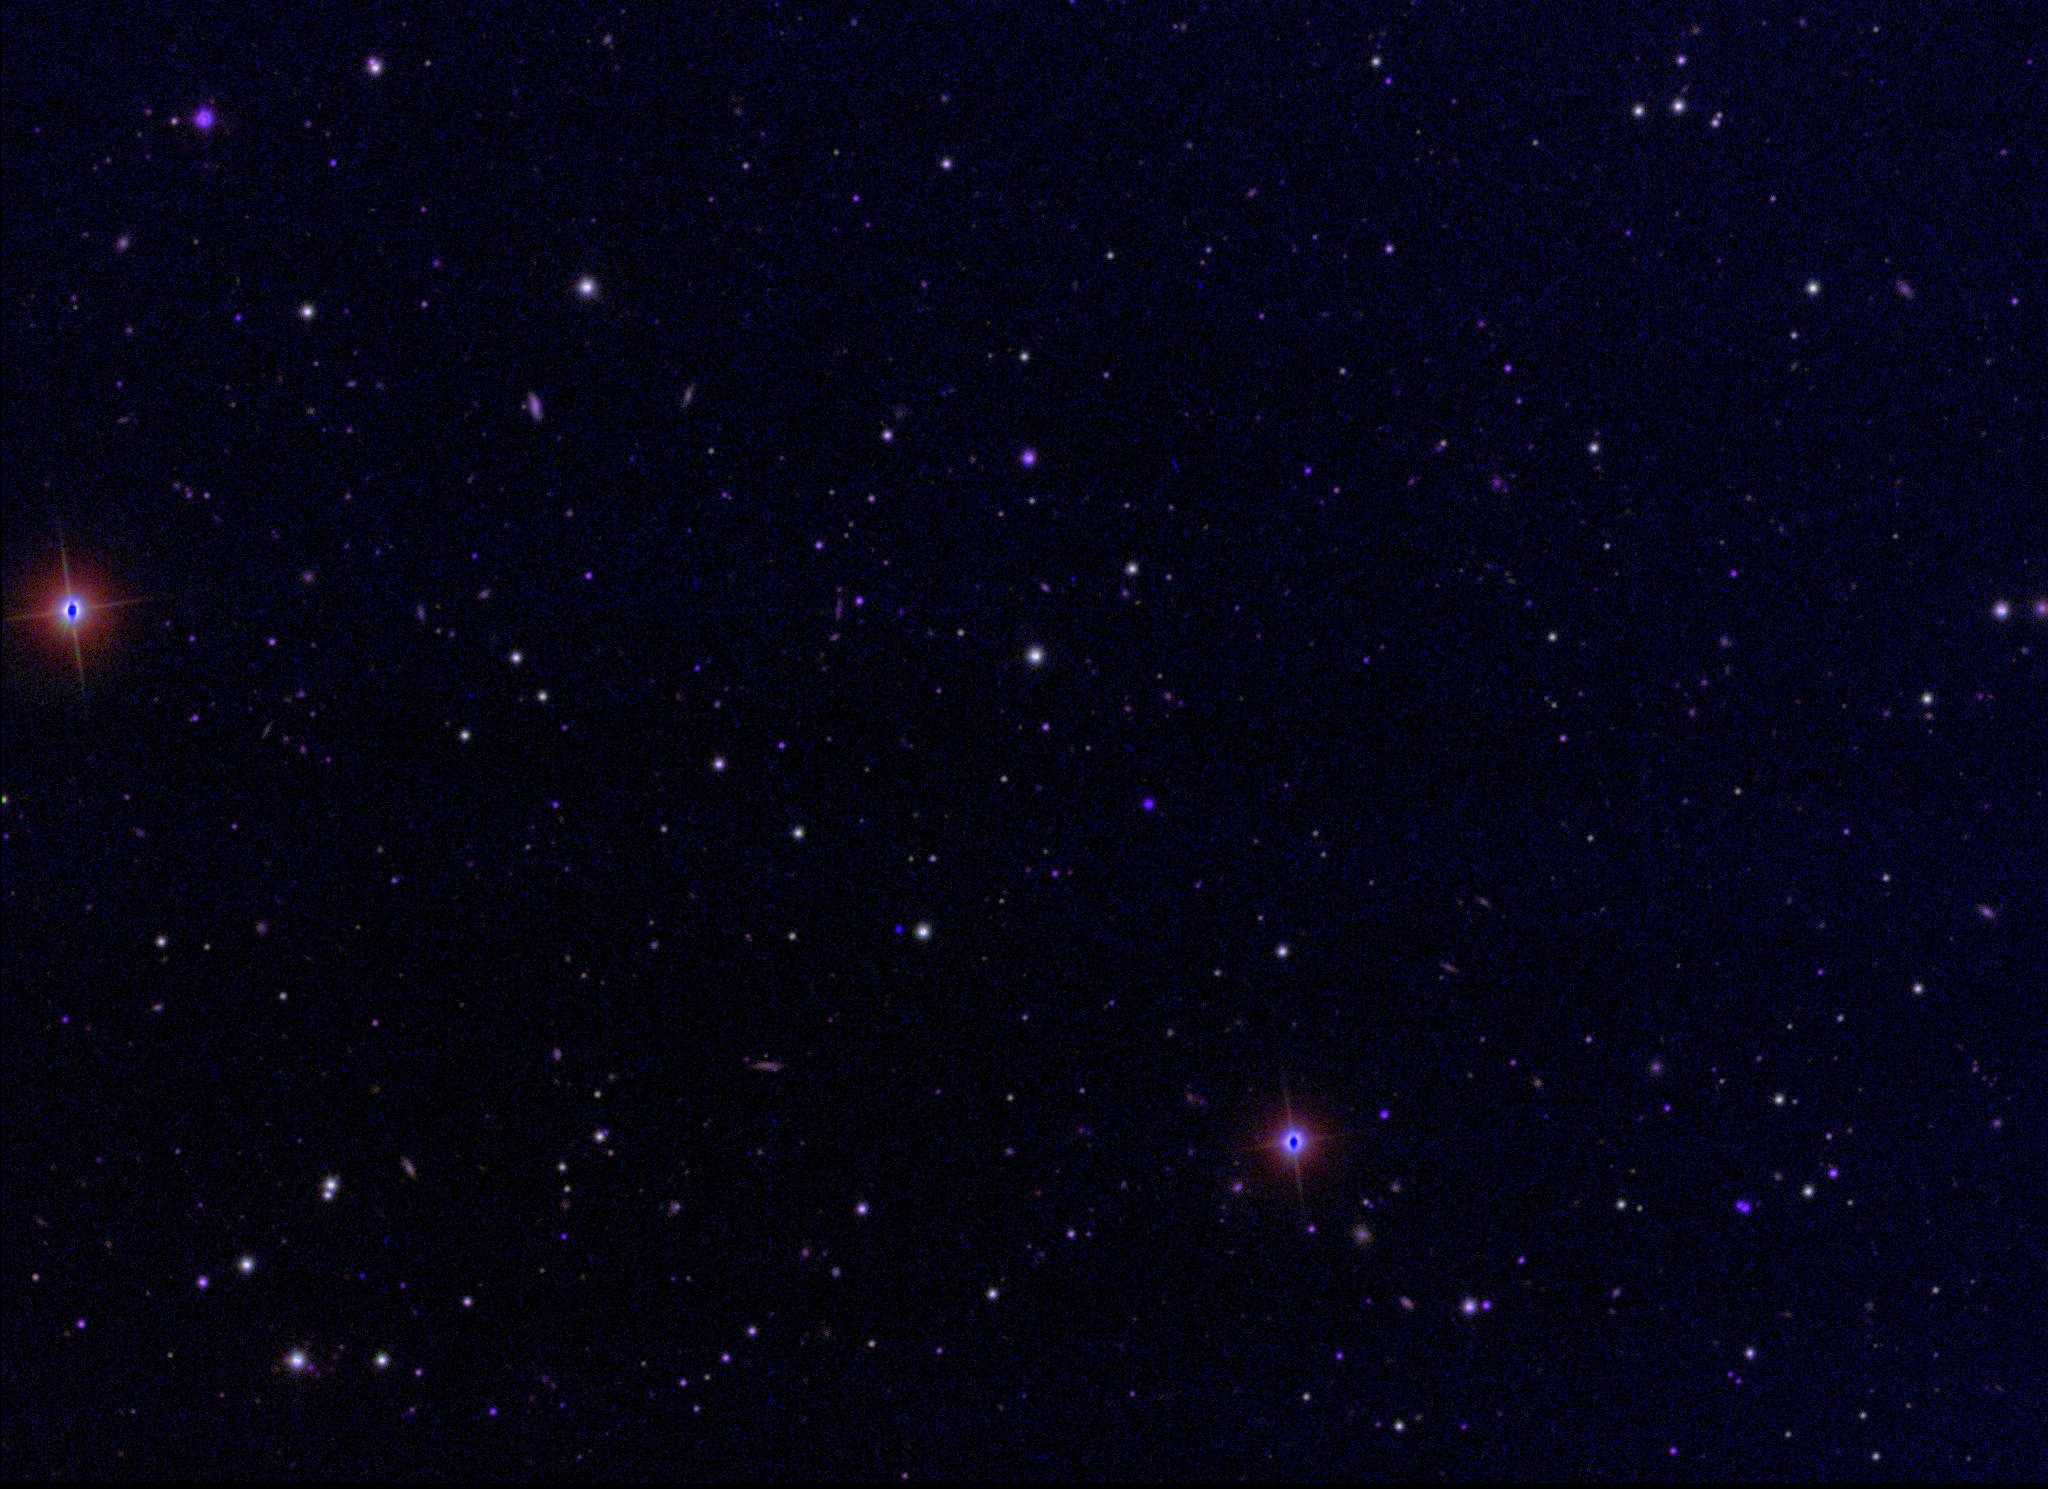L: (894, 919, 908, 932)
